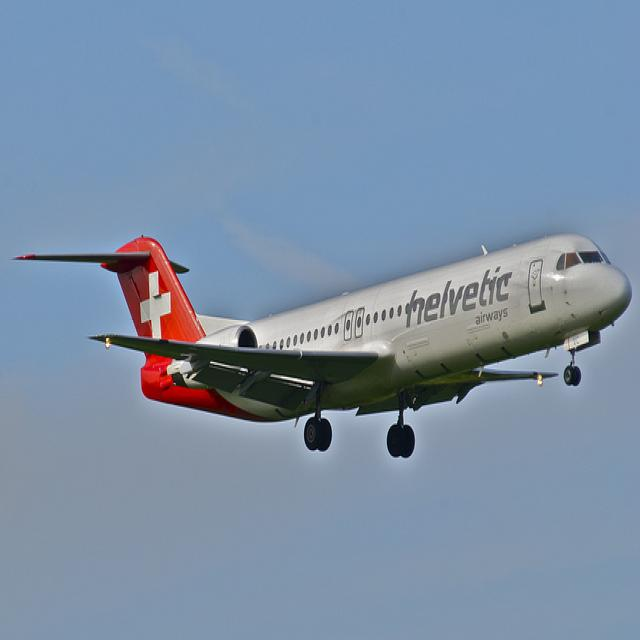airplane: (12, 230, 633, 460)
